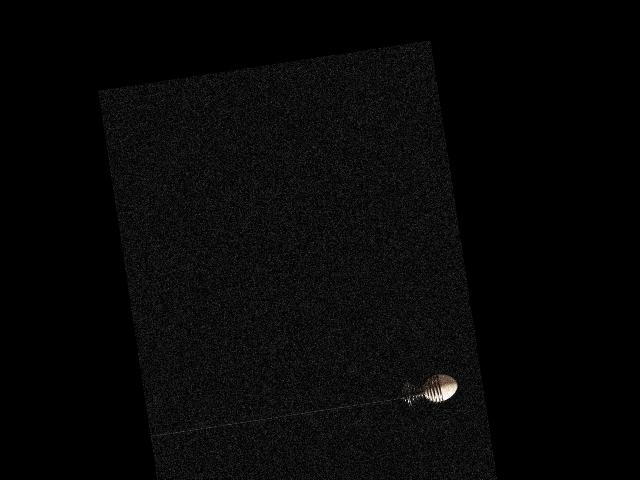egg: (421, 372, 459, 404)
